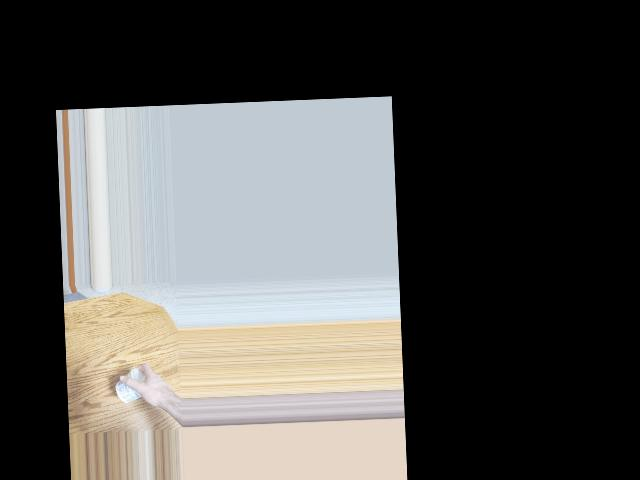cotage: (113, 367, 146, 407)
